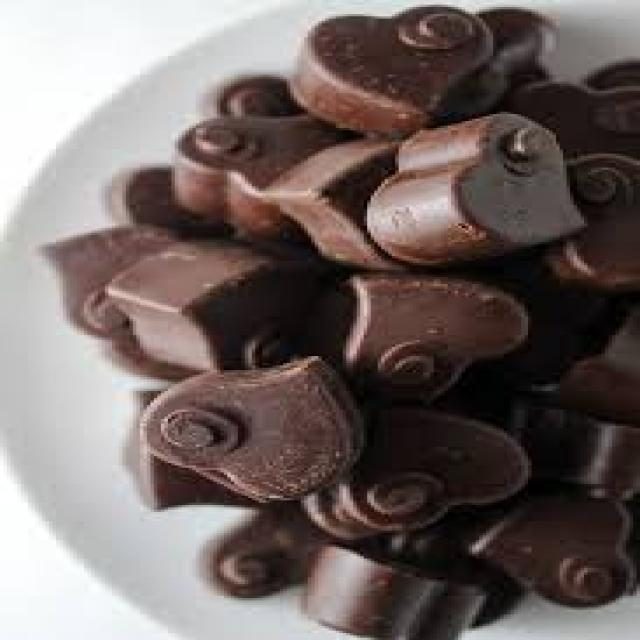Chocolate: (45, 9, 640, 640)
